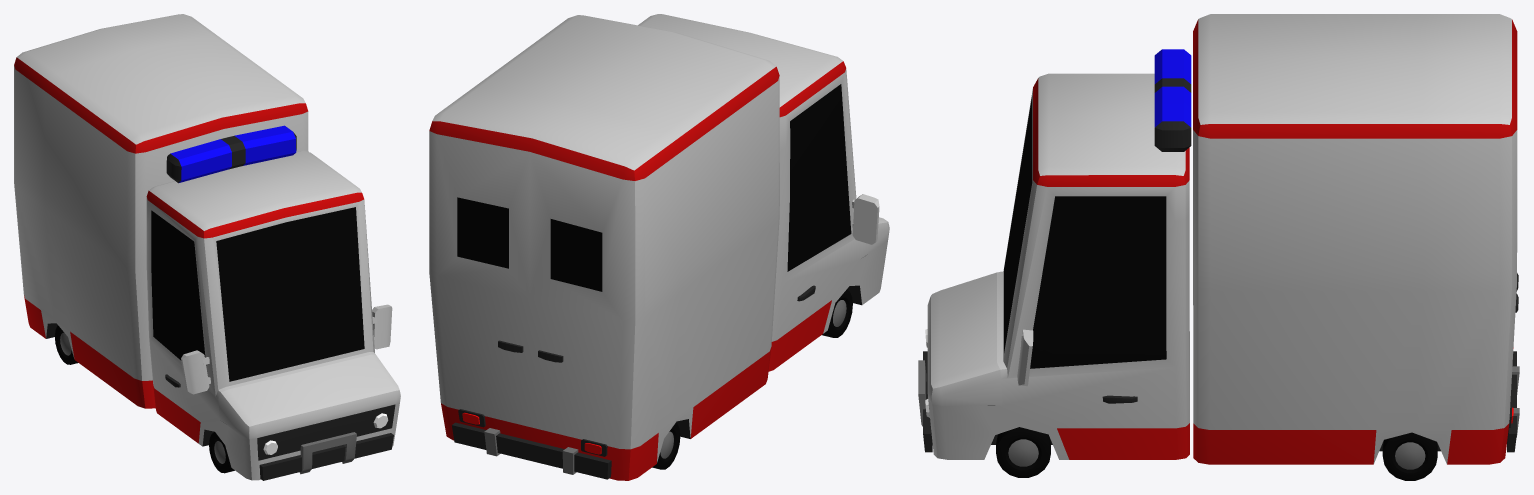
3 views of the same model, side by side, from view 1: azimuth 30°, elevation 25°; view 2: azimuth 150°, elevation 25°; view 3: azimuth 270°, elevation 25° (orthographic). The views are drawn at different scales.
Visible parts, largest first — view 1: Cube, Cube.001, Cube.008, Cube.003, Cube.002, Cylinder.002, Cylinder.003; view 2: Cube.001, Cube, Cube.008, Cube.002, Cylinder.002, Cylinder.003; view 3: Cube.001, Cube, Cube.003, Cylinder.000, Cylinder.001, Cube.008, Cube.002.
Part boxes in pixels (<box>): Cube: <box>146,150,400,480</box>; Cube.001: <box>14,14,308,408</box>; Cube.008: <box>257,404,395,480</box>; Cube.003: <box>166,125,296,183</box>; Cube.002: <box>181,304,392,394</box>; Cylinder.002: <box>209,432,234,473</box>; Cylinder.003: <box>54,325,78,364</box>; Cube.001: <box>429,15,779,480</box>; Cube: <box>638,14,889,371</box>; Cube.008: <box>452,409,611,479</box>; Cube.002: <box>852,194,879,244</box>; Cylinder.002: <box>822,289,852,337</box>; Cylinder.003: <box>652,422,680,469</box>; Cube.001: <box>1193,14,1518,464</box>; Cube: <box>927,73,1189,459</box>; Cube.003: <box>1154,49,1191,151</box>; Cylinder.000: <box>996,427,1050,477</box>; Cylinder.001: <box>1382,432,1437,480</box>; Cube.008: <box>918,329,1519,452</box>; Cube.002: <box>1017,329,1033,386</box>.
Bounding box in the file's own units: 166 × 221 × 319.
Materials: 1 (1 with a texture image).
